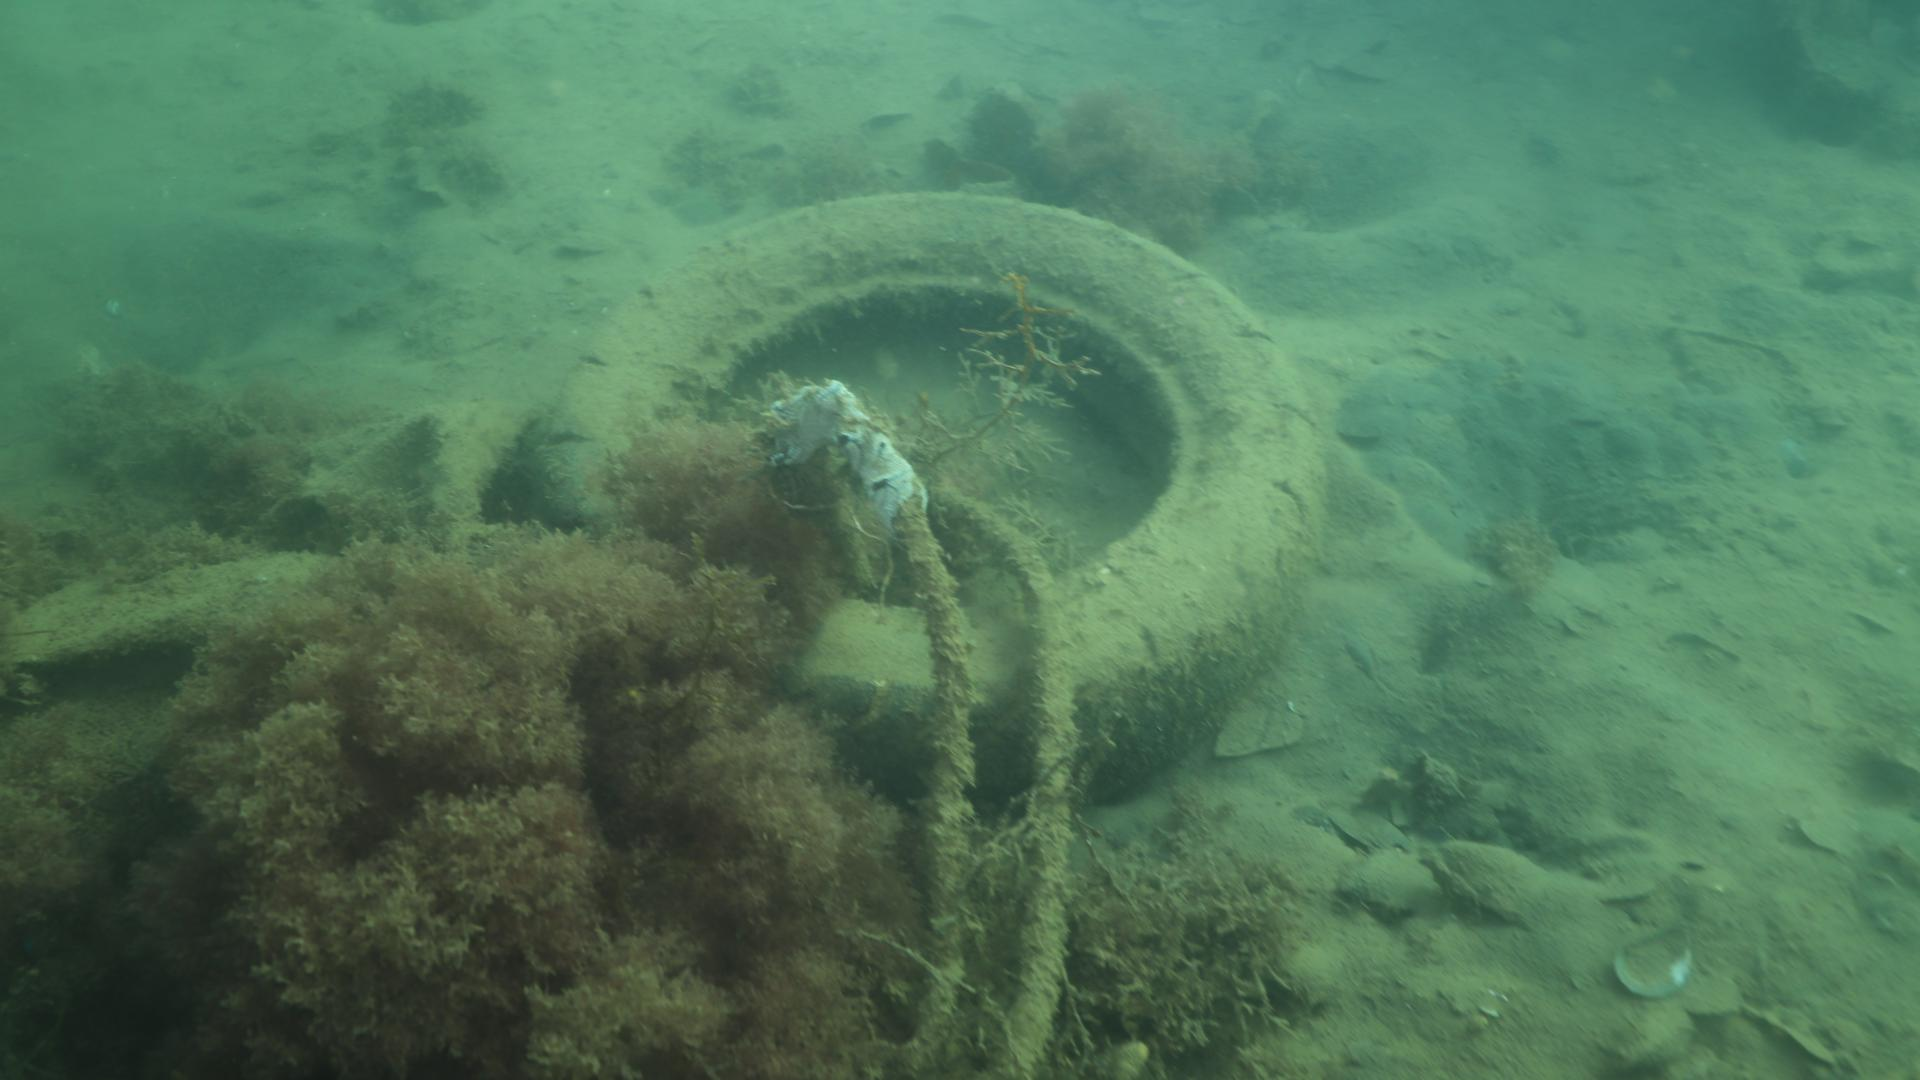bundle of ropes: (886, 488, 1076, 1080)
tire: (534, 187, 1323, 802)
